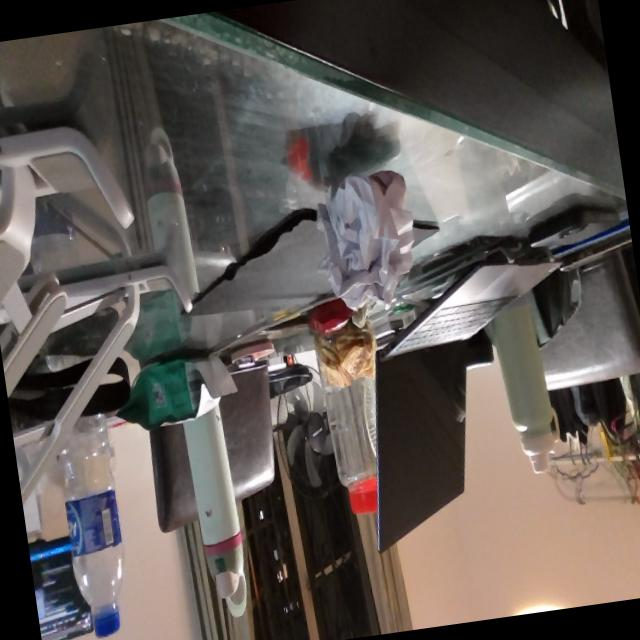crumpled_paper: (306, 162, 426, 324)
